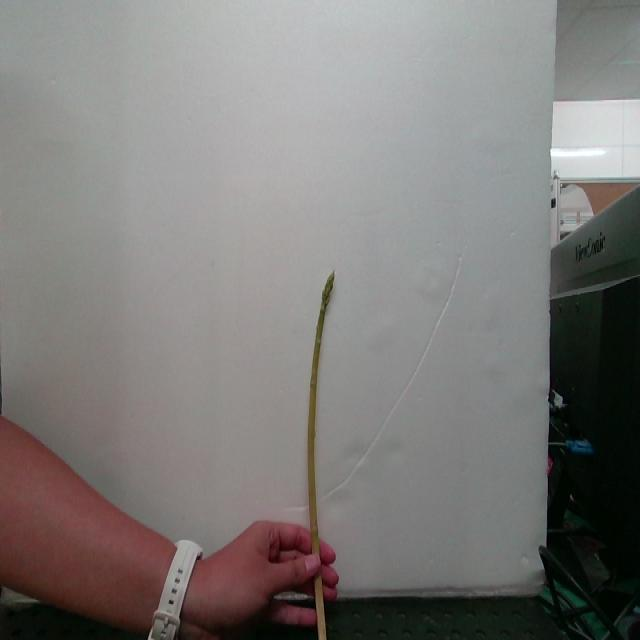aspargus: (305, 274, 336, 557)
